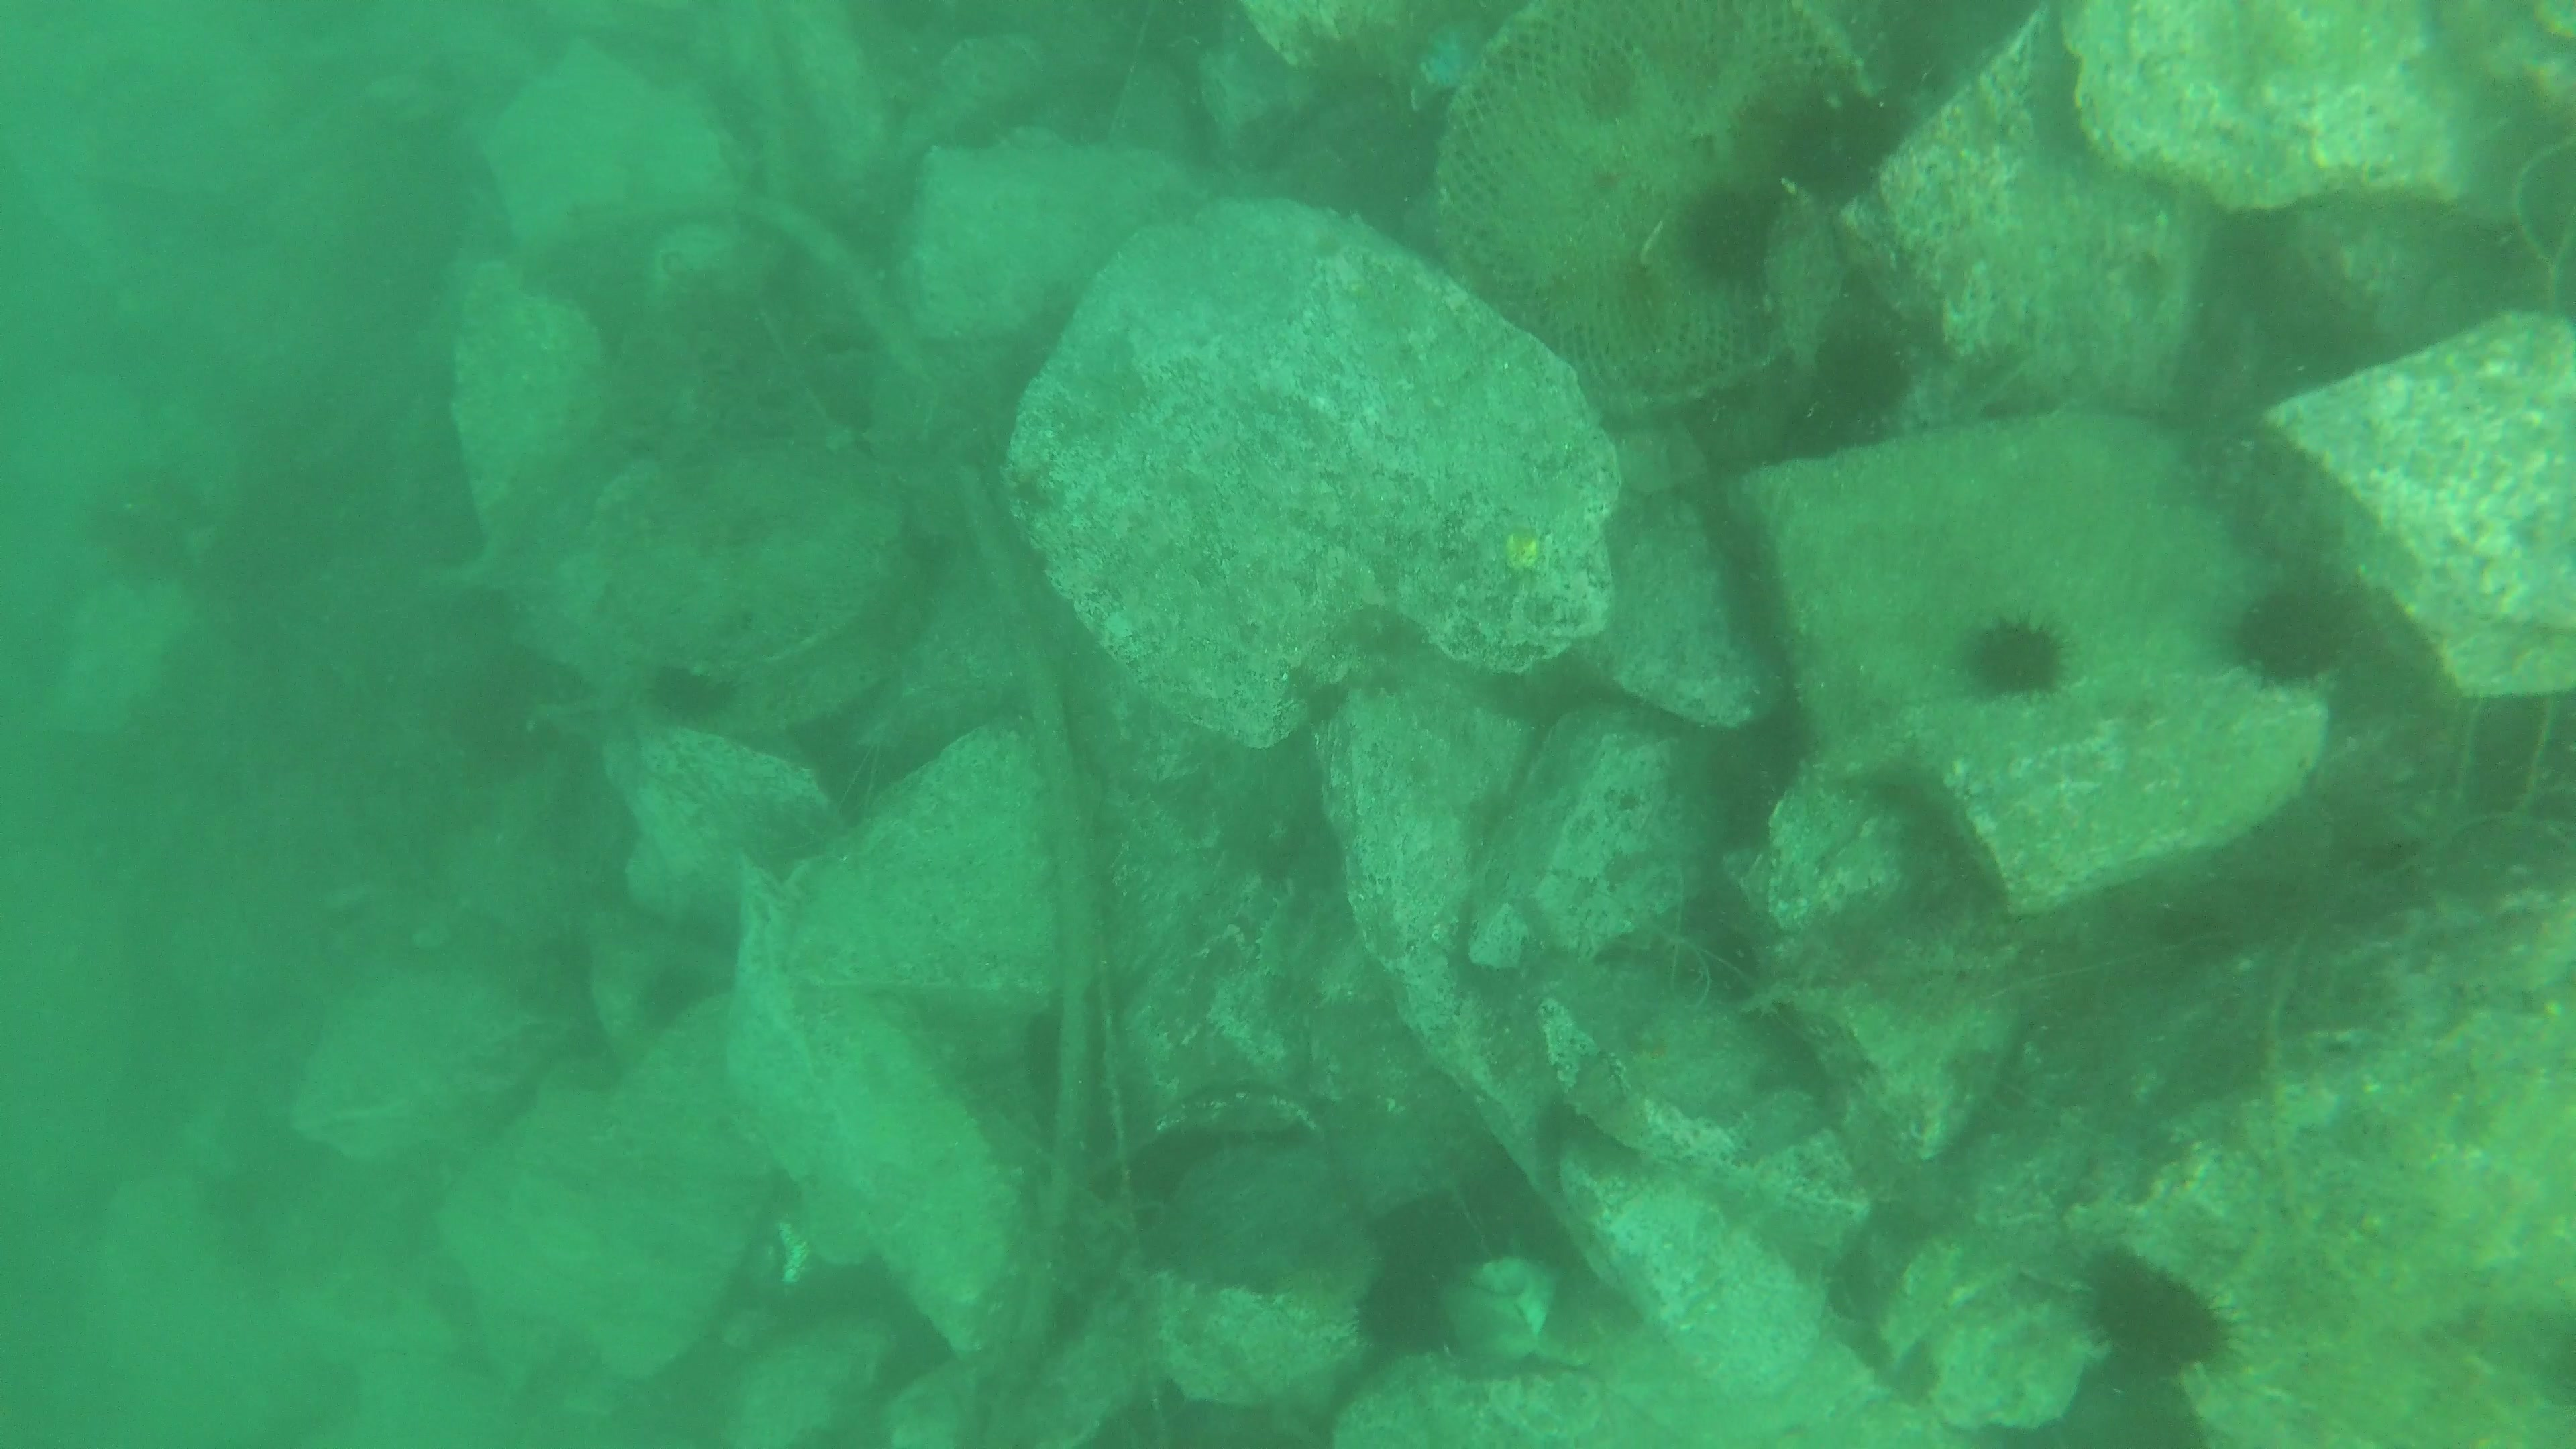echinus: (2061, 1249, 2250, 1387), (1776, 78, 1907, 207), (1960, 602, 2074, 706), (1810, 324, 1921, 428), (1677, 188, 1782, 295), (1334, 1256, 1460, 1345), (2222, 593, 2332, 678), (640, 639, 741, 725)
